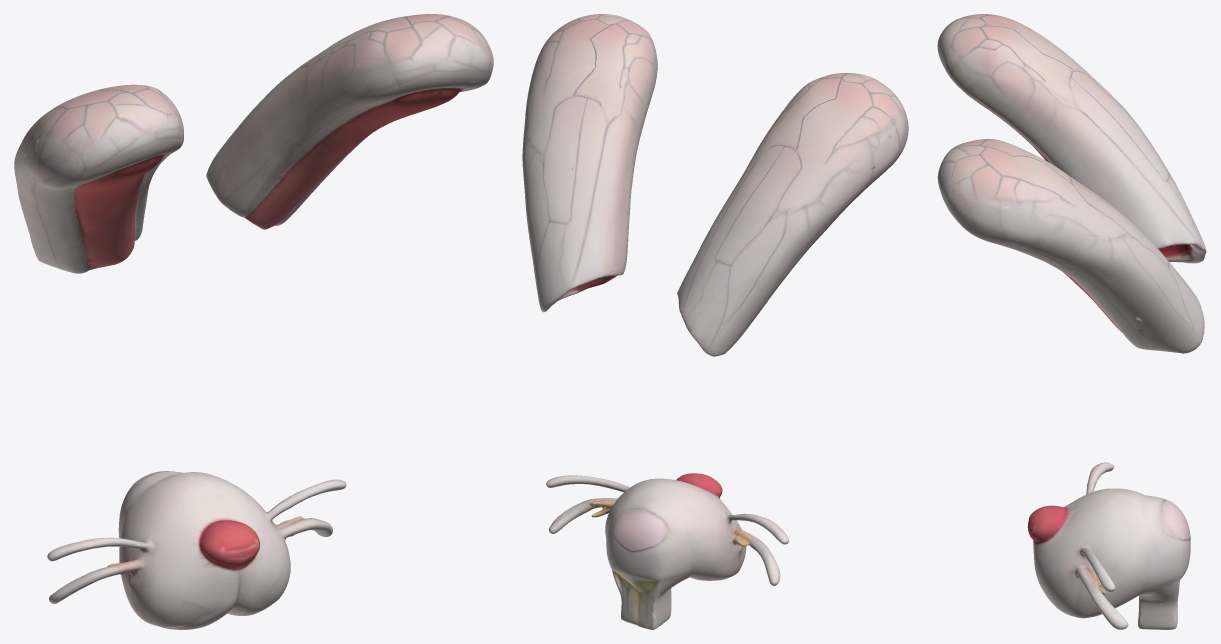
The model's file is Bunny_ears_nose.glb.
The picture shows the model from 3 angles, left to right: view 1: azimuth 30°, elevation 25°; view 2: azimuth 150°, elevation 25°; view 3: azimuth 270°, elevation 25°; orthographic projection. The views are drawn at different scales.
Size of the model in its own units: 1.48 by 2 by 0.9046.
1 material, 1 textured.
